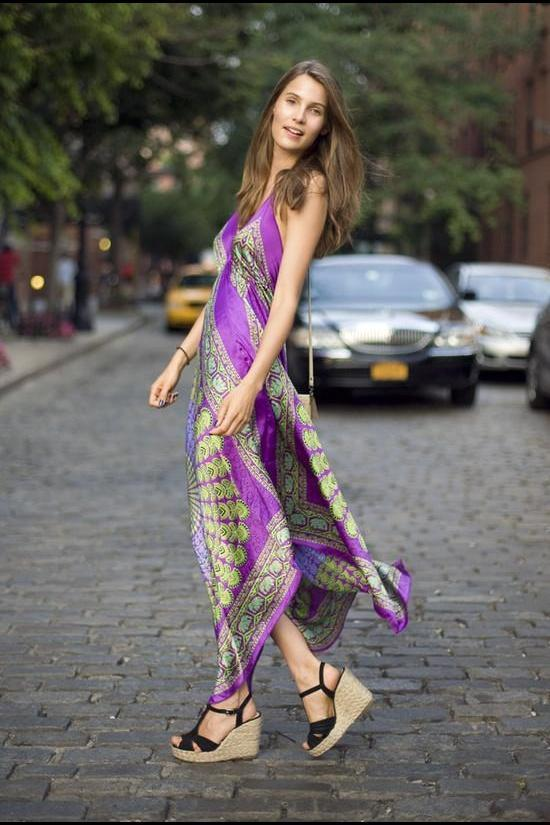dress: (185, 166, 412, 706)
